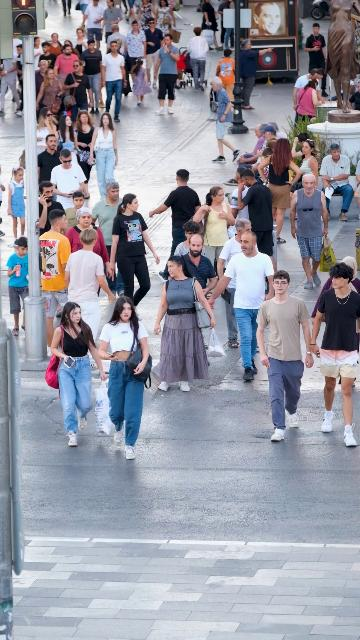person: (206, 231, 275, 381), (256, 270, 314, 441), (310, 263, 360, 447), (97, 296, 150, 460), (153, 256, 216, 392), (50, 302, 108, 446), (65, 228, 115, 367), (149, 169, 201, 281), (110, 194, 160, 308), (257, 138, 303, 244), (217, 218, 254, 349), (40, 209, 71, 358), (290, 174, 329, 290), (236, 168, 277, 272), (65, 207, 112, 292), (91, 181, 124, 298), (192, 187, 236, 267), (311, 256, 360, 319), (210, 77, 241, 163), (320, 144, 354, 222), (89, 113, 118, 201), (225, 124, 266, 186), (239, 39, 274, 111), (179, 233, 217, 299), (6, 237, 31, 336), (153, 34, 182, 116), (50, 149, 88, 209), (72, 110, 96, 199), (101, 41, 127, 123), (63, 60, 94, 123), (37, 181, 68, 239), (80, 39, 102, 114), (293, 68, 325, 119), (7, 167, 28, 244), (143, 18, 164, 89), (305, 23, 327, 90), (186, 27, 209, 91), (291, 138, 319, 190), (36, 69, 67, 114), (295, 79, 325, 124), (124, 20, 147, 77), (37, 135, 63, 185), (53, 44, 80, 90), (80, 0, 105, 49), (56, 115, 80, 166), (174, 221, 204, 258), (232, 167, 247, 241), (36, 107, 60, 153), (216, 49, 236, 102), (129, 61, 152, 107), (201, 0, 219, 50), (103, 0, 123, 44), (64, 191, 88, 227), (105, 24, 126, 57), (291, 133, 312, 162), (38, 42, 58, 69), (259, 122, 276, 149), (72, 28, 89, 55), (267, 121, 288, 141), (35, 60, 48, 90), (50, 33, 63, 57), (16, 44, 25, 78), (60, 40, 76, 56), (33, 36, 43, 61)
